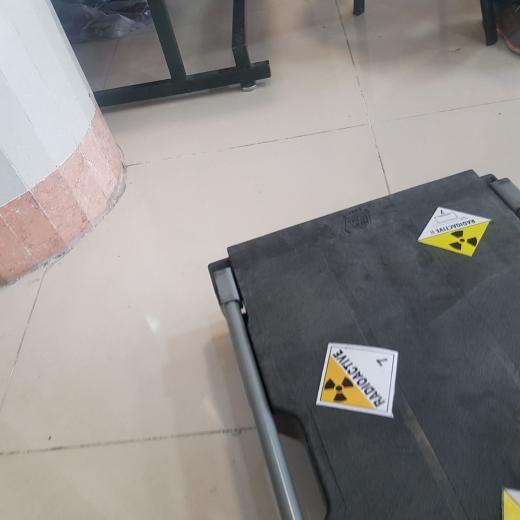radioactive: (316, 341, 402, 419), (418, 205, 492, 256)
